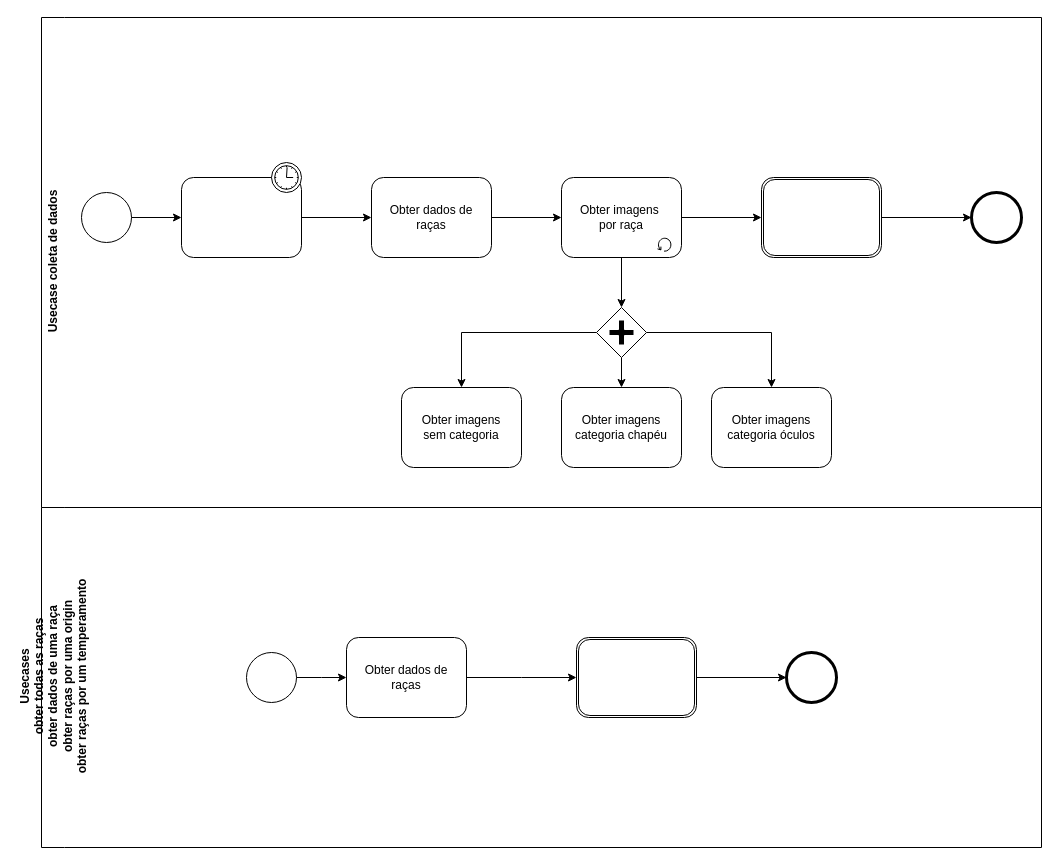
This 1059x865 diagram has some shape labels left out. The shapes that lost their labels are listed below. From the top down, each one's centre as x and y in pixels, then its label:
the point at 241,217: Processo agendado
the point at 821,217: Savar no banco de dados
the point at 636,677: Extrair dados do banco de dados
